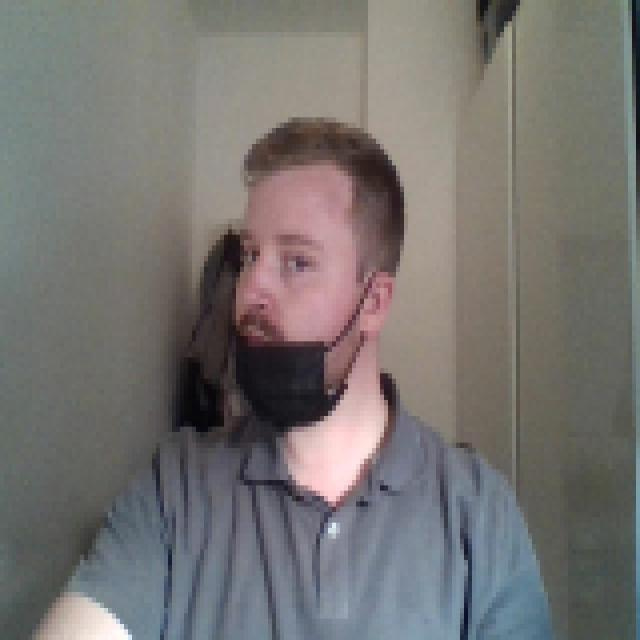hairnet: (220, 245, 400, 438)
